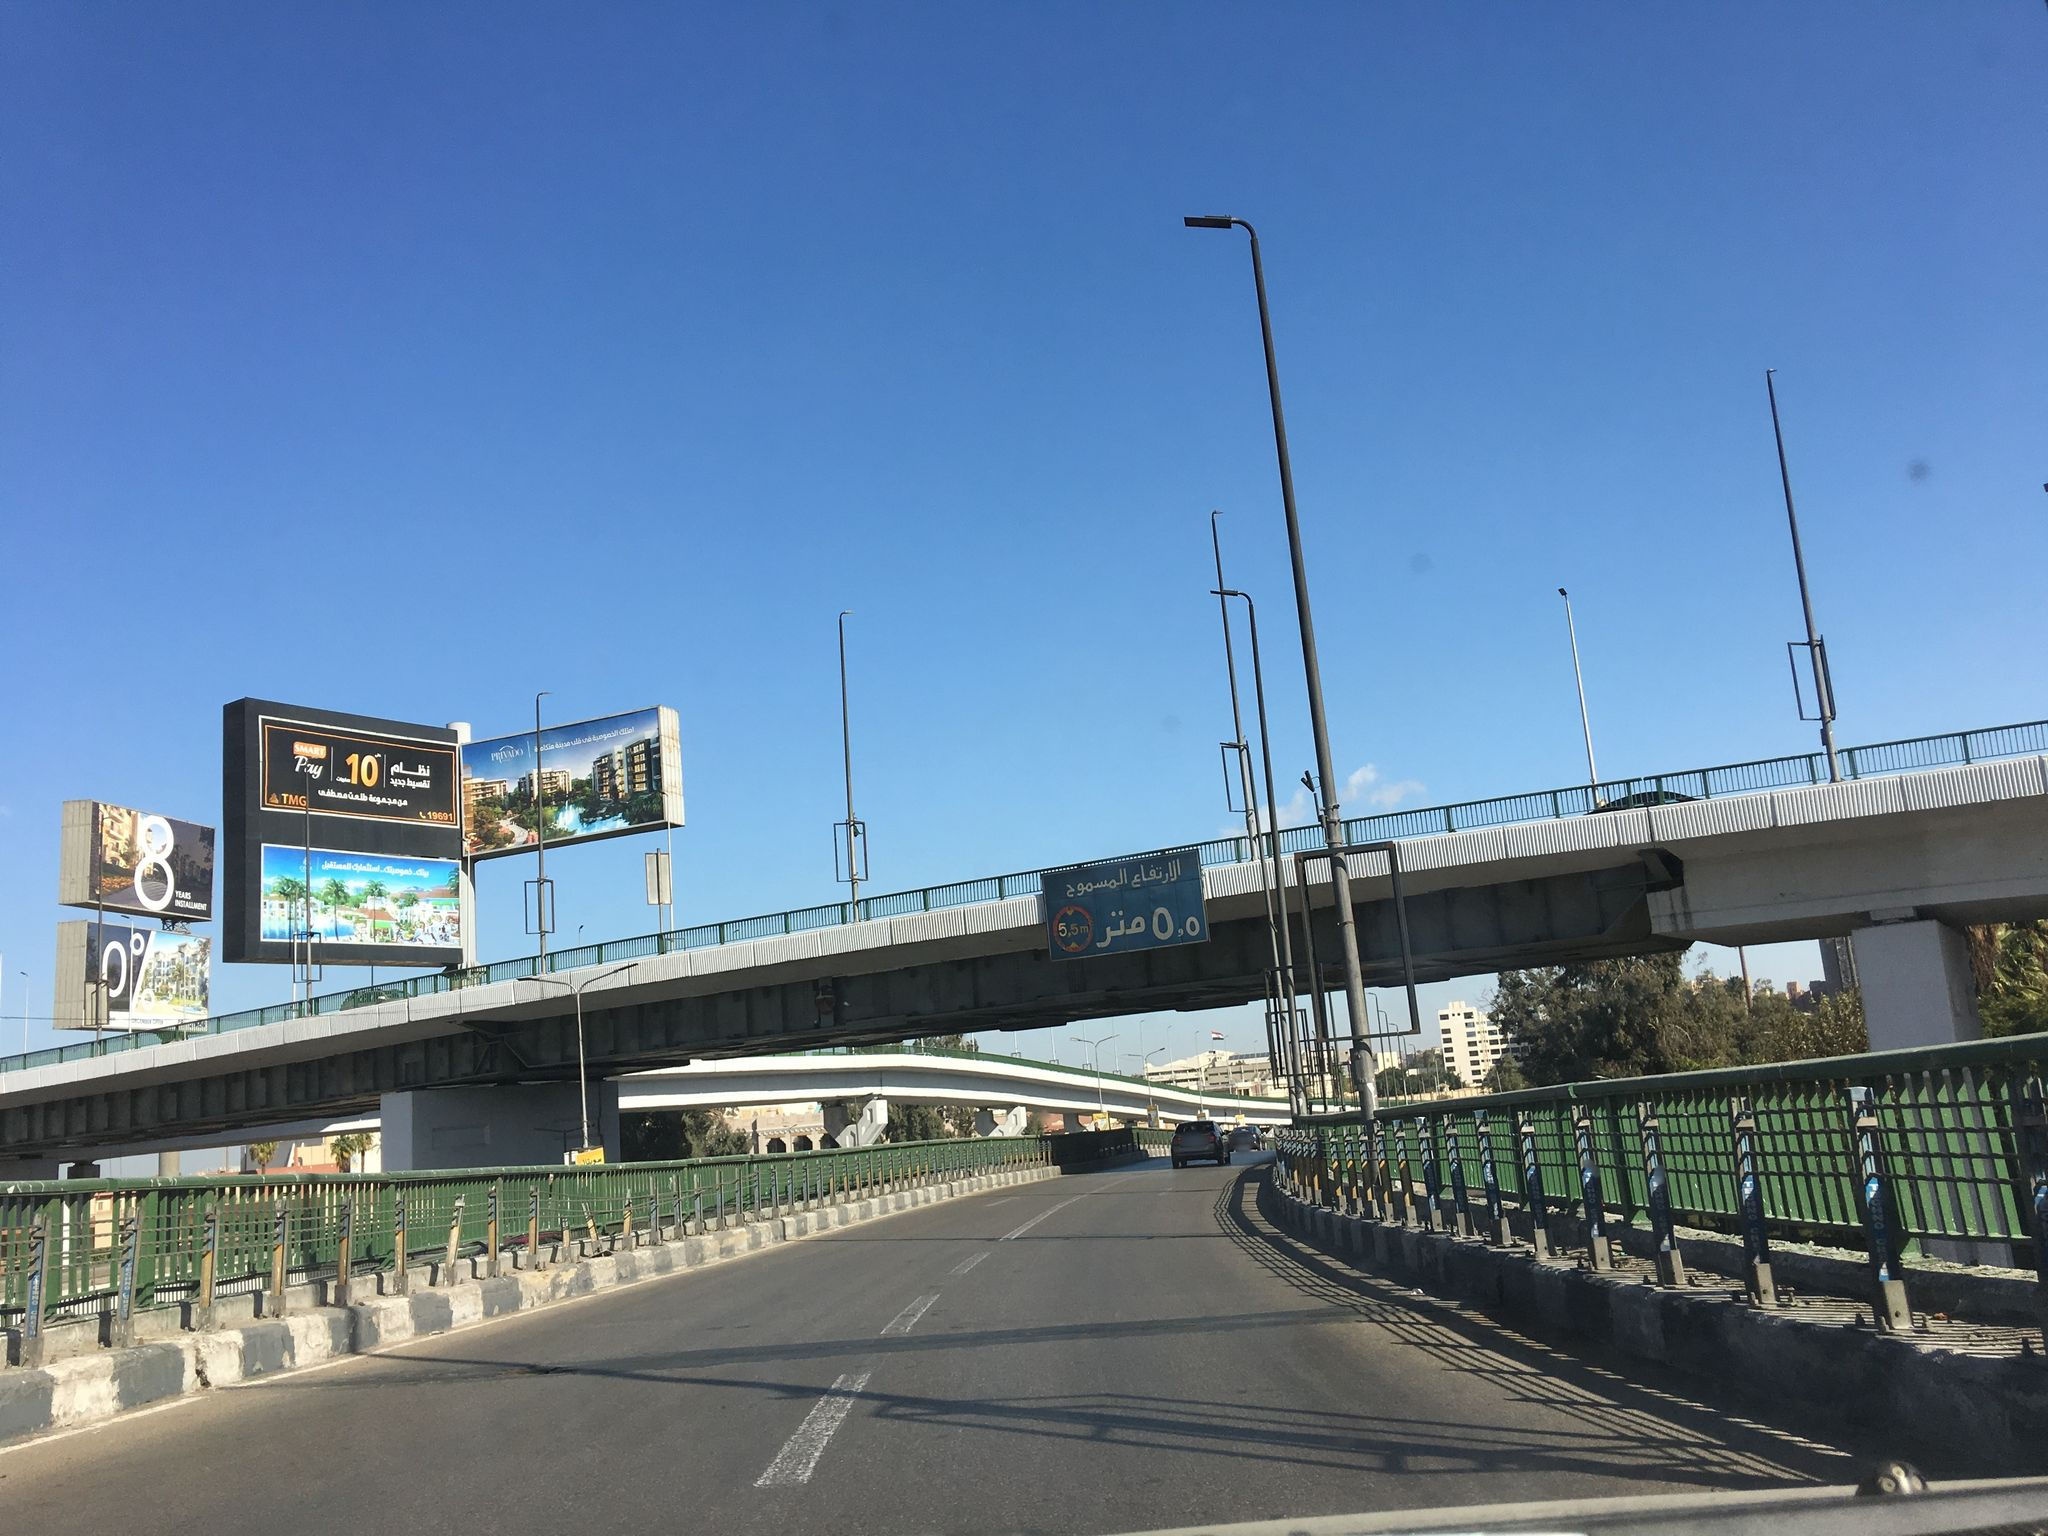car: (1169, 1120, 1232, 1167), (1227, 1125, 1268, 1152)
